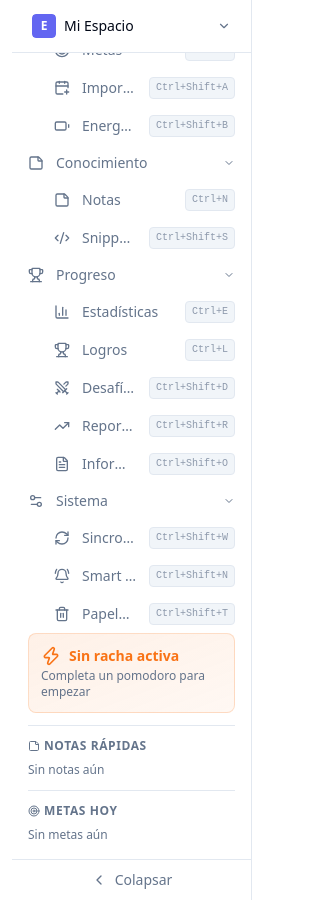
Test: Sidebar · modo desarrollador › despliega Sistema automáticamente al activar el modo desarrollador
The width and height of the screenshot is (332, 900).
(page scrolled)
Click the button "Sistema". click: (132, 501)
box: [12,483,251,519]
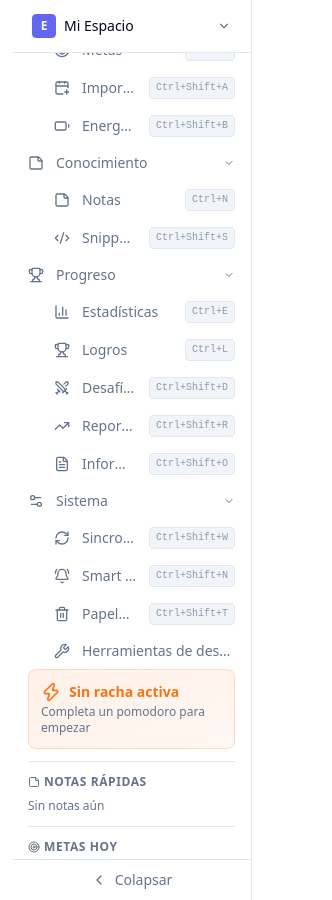
Expected: the text "Herramientas de desarrollo" is shown, [82,641,235,661]
